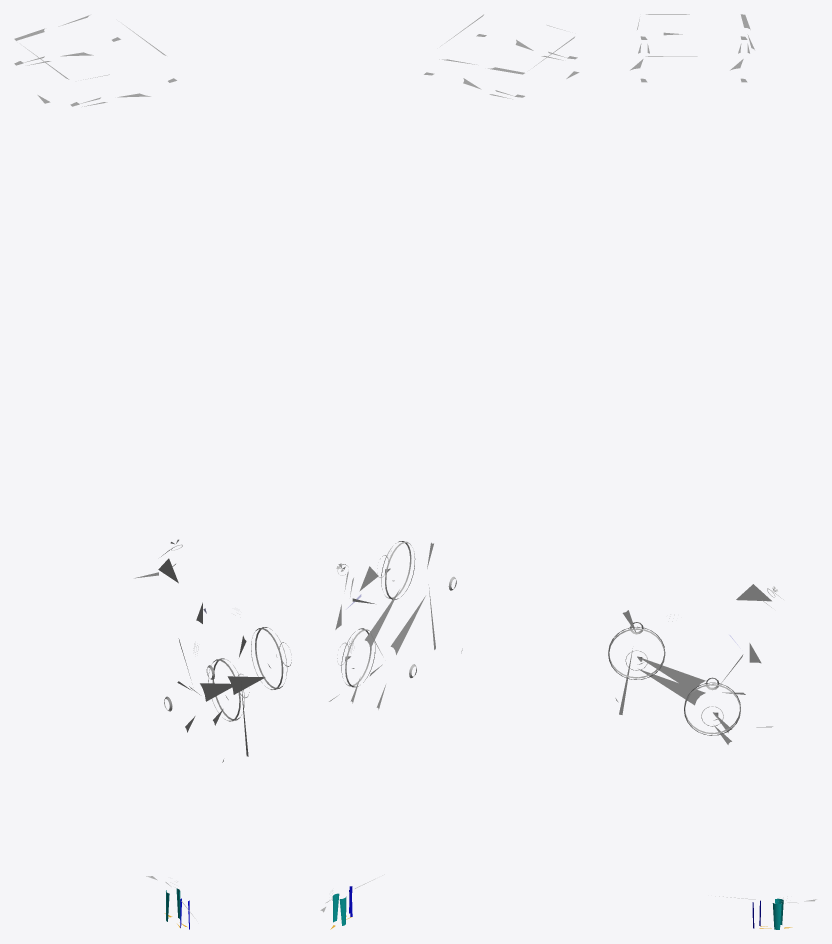
3 renders of one model, left to right at view 1: azimuth 30°, elevation 25°; view 2: azimuth 150°, elevation 25°; view 3: azimuth 270°, elevation 25°, orthographic. The views are drawn at different scales.
Visible parts, largest first — view 1: F19721000063102000123_001_zb_ub_auflage_23_fa (×2); view 2: F19721000063102000123_001_zb_ub_auflage_23_fa (×2); view 3: F19721000063102000123_001_zb_ub_auflage_23_fa (×2).
Boxes of the visible parts, x1=… form: F19721000063102000123_001_zb_ub_auflage_23_fa (×2): x1=14, y1=15, x2=291, y2=918; F19721000063102000123_001_zb_ub_auflage_23_fa (×2): x1=320, y1=14, x2=579, y2=912; F19721000063102000123_001_zb_ub_auflage_23_fa (×2): x1=608, y1=14, x2=816, y2=903.
Bounding box in the file's own units: 163 × 147 × 645.
